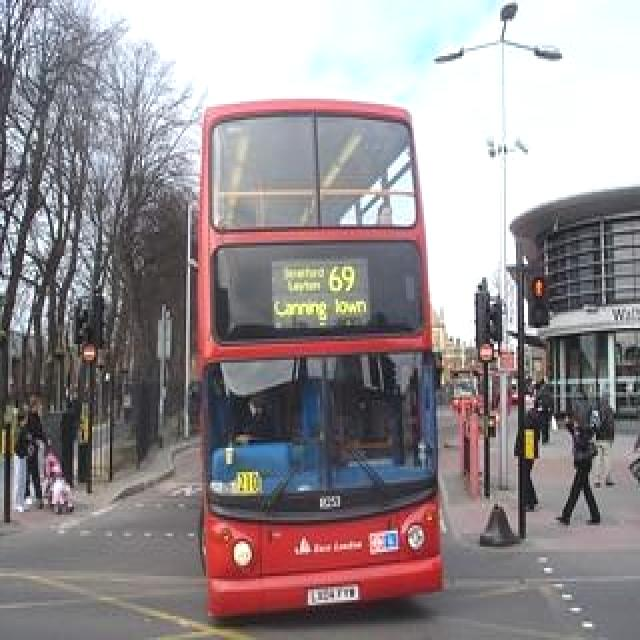Bus: (190, 94, 458, 626)
